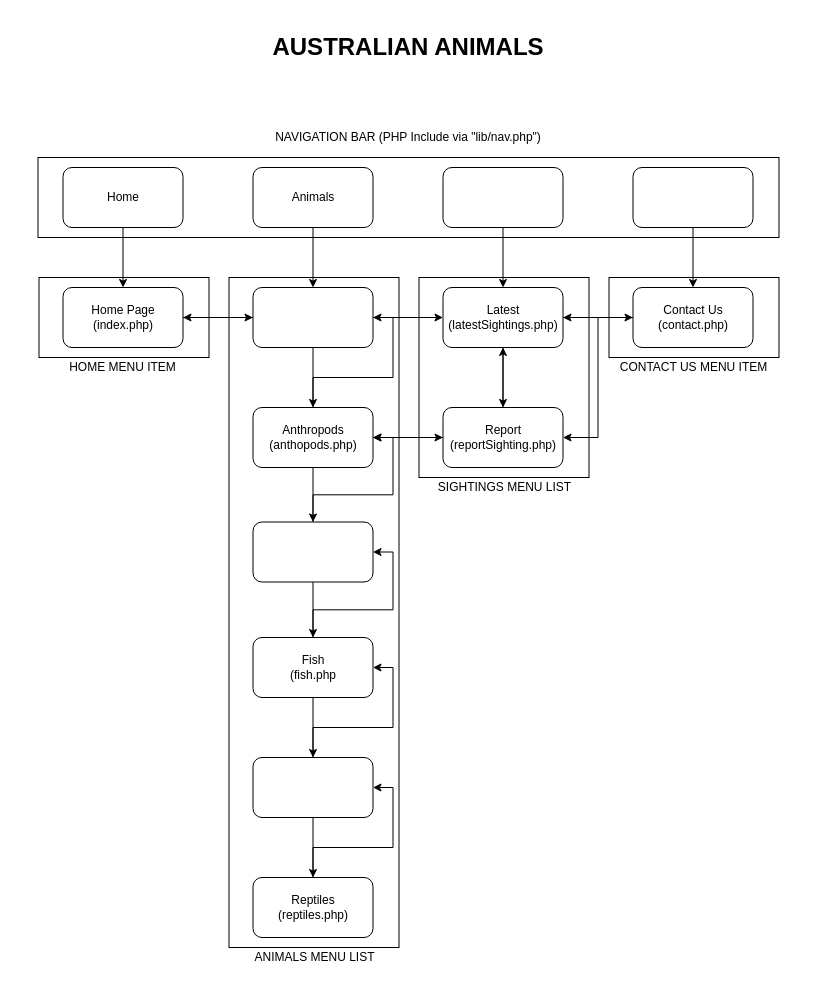
Image size: 816x985. Some labels were removed from this diagram. The box of each missing label's shape, as (x1, y1, x2, y2) in pixels:
Amphibians (amphibians.php): (252, 286, 373, 348)
Birds (birds.php): (252, 521, 373, 582)
Contact Us: (632, 166, 753, 228)
Mammals (mammals.php): (252, 756, 373, 818)
Sightings: (442, 166, 563, 228)
